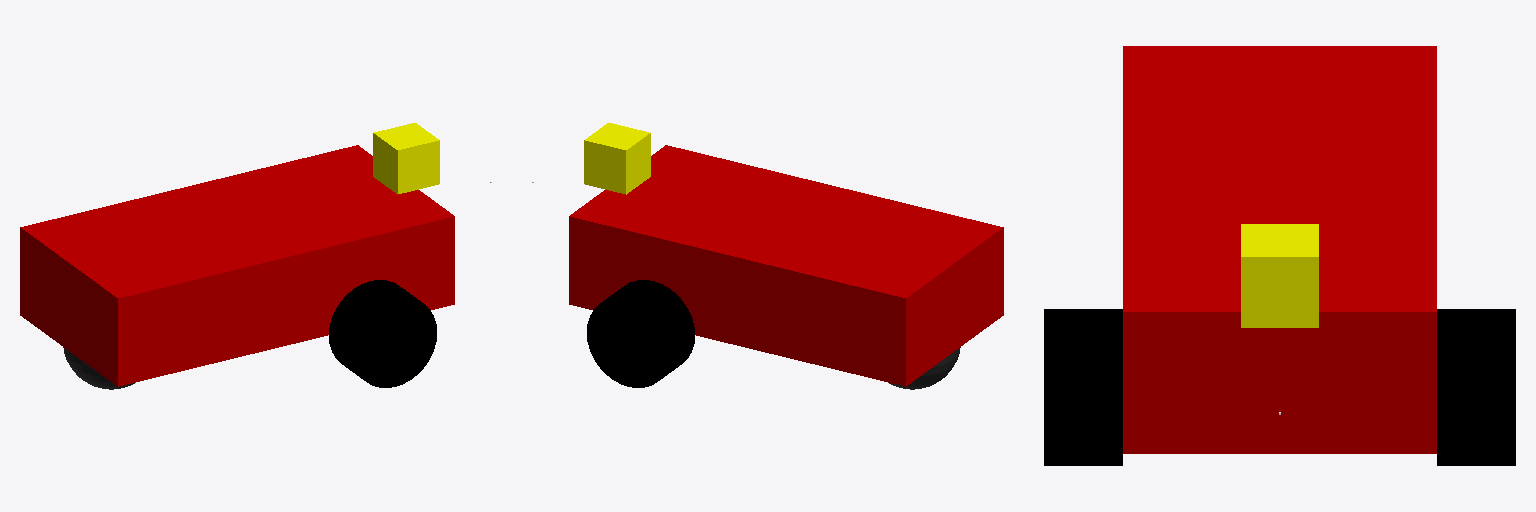
The robot description file, URDF, robot "mybot":
<?xml version="1.0" ?>
<!-- =================================================================================== -->
<!-- |    This document was autogenerated by xacro from simple.urdf.xacro              | -->
<!-- |    EDITING THIS FILE BY HAND IS NOT RECOMMENDED                                 | -->
<!-- =================================================================================== -->
<robot name="mybot" xmlns:xacro="http://www.ros.org/wiki/xacro">
    <material name="black">
        <color rgba="0.0 0.0 0.0 1.0"/>
    </material>
    <material name="blue">
        <color rgba="0.0 0.0 0.8 1.0"/>
    </material>
    <material name="green">
        <color rgba="0.0 0.8 0.0 1.0"/>
    </material>
    <material name="grey">
        <color rgba="0.2 0.2 0.2 1.0"/>
    </material>
    <material name="orange">
        <color rgba="1.0 0.423529411765 0.0392156862745 1.0"/>
    </material>
    <material name="yellow">
        <color rgba="1.0 1.0 0 1.0"/>
    </material>
    <material name="brown">
        <color rgba="0.870588235294 0.811764705882 0.764705882353 1.0"/>
    </material>
    <material name="red">
        <color rgba="0.8 0.0 0.0 1.0"/>
    </material>
    <material name="white">
        <color rgba="1.0 1.0 1.0 1.0"/>
    </material>
    <link name="footprint"/>
    <joint name="base_joint" type="fixed">
        <parent link="footprint"/>
        <child link="chassis"/>
    </joint>
    <link name="chassis">
        <collision>
            <origin rpy="0 0 0" xyz="0 0 0.1"/>
            <geometry>
                <box size="0.4 0.2 0.1"/>
            </geometry>
        </collision>
        <visual>
            <origin rpy="0 0 0" xyz="0 0 0.1"/>
            <geometry>
                <box size="0.4 0.2 0.1"/>
            </geometry>
            <material name="red"/>
        </visual>
        <inertial>
            <origin rpy="0 0 0" xyz="0 0 0.1"/>
            <mass value="4"/>
            <inertia ixx="0.208333333333" ixy="0" ixz="0" iyy="0.708333333333" iyz="0" izz="0.708333333333"/>
        </inertial>
    </link>
    <joint name="fixed" type="fixed">
        <parent link="chassis"/>
        <child link="caster_wheel"/>
    </joint>
    <link name="caster_wheel">
        <collision>
            <origin rpy="0 0 0" xyz="-0.15 0 0.05"/>
            <contact_coefficients mu="0.001" kp="1" kd="1"/>
            <geometry>
                <sphere radius="0.05"/>
            </geometry>
        </collision>
        <visual>
            <origin rpy="0 0 0" xyz="-0.15 0 0.05"/>
            <geometry>
                <sphere radius="0.05"/>
            </geometry>
            <material name="grey"/>
        </visual>
        <inertial>
            <origin rpy="0 0 0" xyz="-0.15 0 0.05"/>
            <mass value=".1"/>
            <inertia ixx="0.005" ixy="0" ixz="0" iyy="0.005" iyz="0" izz="0.005"/>
        </inertial>
    </link>
    <link name="left_wheel">
        <collision>
            <origin rpy="0 1.57079632679 1.57079632679" xyz="0 0 0"/>
            <!--see http://wiki.ros.org/urdf/Tutorials/Adding%20Physical%20and%20Collision%20Properties%20to%20a%20URDF%20Model-->
            <!--and https://www.engineeringtoolbox.com/friction-coefficients-d_778.html-->
            <contact_coefficients mu="1.0" kp="1.0" kd="1.0"/>
            <geometry>
                <cylinder length="0.05" radius="0.05"/>
            </geometry>
        </collision>
        <visual>
            <origin rpy="0 1.57079632679 1.57079632679" xyz="0 0 0"/>
            <geometry>
                <cylinder length="0.05" radius="0.05"/>
            </geometry>
            <material name="black"/>
        </visual>
        <inertial>
            <origin rpy="0 1.57079632679 1.57079632679" xyz="0 0 0"/>
            <mass value=".1"/>
            <inertia ixx="0.00026046" ixy="0" ixz="0" iyy="0.00026046" iyz="0" izz="0.00041226"/>
        </inertial>
    </link>
    <joint name="left_wheel_hinge" type="continuous">
        <parent link="chassis"/>
        <child link="left_wheel"/>
        <origin rpy="0 0 0" xyz="0.1 -0.125 0.05"/>
        <axis rpy="0 0 0" xyz="0 1 0"/>
        <limit effort="10" velocity="100"/>
        <joint_properties damping="0.0" friction="0.0"/>
    </joint>
    <transmission name="left_trans">
        <type>transmission_interface/SimpleTransmission</type>
        <joint name="left_wheel_hinge">
            <hardwareInterface>EffortJointInterface</hardwareInterface>
        </joint>
        <actuator name="leftMotor">
            <hardwareInterface>EffortJointInterface</hardwareInterface>
            <mechanicalReduction>1</mechanicalReduction>
        </actuator>
    </transmission>
    <link name="right_wheel">
        <collision>
            <origin rpy="0 1.57079632679 1.57079632679" xyz="0 0 0"/>
            <contact_coefficients mu="1.0" kp="1.0" kd="1.0"/>
            <geometry>
                <cylinder length="0.05" radius="0.05"/>
            </geometry>
        </collision>
        <visual>
            <origin rpy="0 1.57079632679 1.57079632679" xyz="0 0 0"/>
            <geometry>
                <cylinder length="0.05" radius="0.05"/>
            </geometry>
            <material name="black"/>
        </visual>
        <inertial>
            <origin rpy="0 1.57079632679 1.57079632679" xyz="0 0 0"/>
            <mass value="1"/>
            <inertia ixx="0.00026046" ixy="0" ixz="0" iyy="0.00026046" iyz="0" izz="0.00041226"/>
        </inertial>
    </link>
    <joint name="right_wheel_hinge" type="continuous">
        <parent link="chassis"/>
        <child link="right_wheel"/>
        <origin rpy="0 0 0" xyz="0.1 0.125 0.05"/>
        <axis rpy="0 0 0" xyz="0 1 0"/>
        <limit effort="10" velocity="100"/>
        <joint_properties damping="0.0" friction="0.0"/>
    </joint>
    <transmission name="right_trans">
        <type>transmission_interface/SimpleTransmission</type>
        <joint name="right_wheel_hinge">
            <hardwareInterface>EffortJointInterface</hardwareInterface>
        </joint>
        <actuator name="rightMotor">
            <hardwareInterface>EffortJointInterface</hardwareInterface>
            <mechanicalReduction>1</mechanicalReduction>
        </actuator>
    </transmission>
    <joint name="camera_joint" type="fixed">
        <origin rpy="0 0 0" xyz="0.2 0 0.175"/>
        <parent link="chassis"/>
        <child link="camera"/>
    </joint>
    <link name="camera">
        <collision>
            <origin rpy="0 0 0" xyz="0 0 0"/>
            <geometry>
                <box size="0.05 0.05 0.05"/>
            </geometry>
        </collision>
        <visual>
            <origin rpy="0 0 0" xyz="0 0 0"/>
            <geometry>
                <box size="0.05 0.05 0.05"/>
            </geometry>
            <material name="yellow"/>
        </visual>
        <inertial>
            <mass value="0.1"/>
            <origin rpy="0 0 0" xyz="0 0 0"/>
            <inertia ixx="4.16666666667e-05" ixy="0" ixz="0" iyy="4.16666666667e-05" iyz="0" izz="4.16666666667e-05"/>
        </inertial>
    </link>
    <joint name="camera_target_joint" type="fixed">
        <origin rpy="0 0 0" xyz="0.1 0 -0.05"/>
        <parent link="camera"/>
        <child link="camera_target"/>
    </joint>
    <link name="camera_target">
        <collision>
            <origin rpy="0 0 0" xyz="0 0 0"/>
            <geometry>
                <box size="0.0 0.0 0.0"/>
            </geometry>
        </collision>
        <visual>
            <origin rpy="0 0 0" xyz="0 0 0"/>
            <geometry>
                <box size="0.001 0.001 0.001"/>
            </geometry>
            <material name="white"/>
        </visual>
        <inertial>
            <mass value="0.0"/>
            <origin rpy="0 0 0" xyz="0 0 0"/>
            <inertia ixx="0" ixy="0" ixz="0" iyy="0" iyz="0" izz="0"/>
        </inertial>
    </link>
</robot>

--- Facts derived from the render (not from the file) ---
Views: 3 orthographic renders of the robot side by side, from view 1: azimuth 30°, elevation 25°; view 2: azimuth 150°, elevation 25°; view 3: azimuth 270°, elevation 25°.
Robot: mybot — 7 links, 6 joints (2 continuous, 4 fixed); root link footprint; default pose: all joints at 0.
Links seen in each view (by area): view 1: chassis, left_wheel, camera, caster_wheel; view 2: chassis, right_wheel, camera, caster_wheel; view 3: chassis, left_wheel, right_wheel, camera.
Link boxes in pixels (box(x1,y1,x2,y2)): chassis: box(20, 145, 454, 386); left_wheel: box(329, 280, 436, 387); camera: box(373, 123, 439, 194); caster_wheel: box(63, 347, 134, 389); chassis: box(569, 145, 1003, 386); right_wheel: box(587, 280, 694, 387); camera: box(584, 123, 650, 194); caster_wheel: box(889, 347, 960, 389); chassis: box(1123, 46, 1436, 453); left_wheel: box(1044, 309, 1122, 465); right_wheel: box(1437, 309, 1515, 465); camera: box(1241, 224, 1318, 327).
Bounding box of the posed robot: 0.5005 × 0.3 × 0.2 m (x, y, z).
Geometry: primitives only (box / cylinder / sphere), no mesh files.